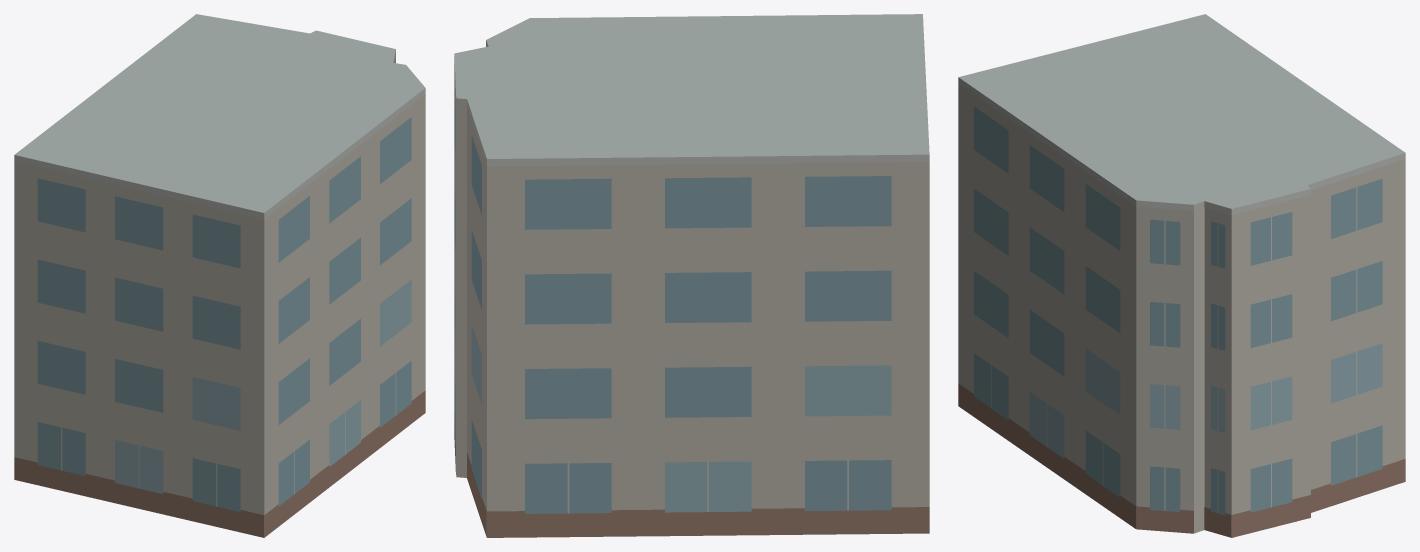
File: survey-upis-32627335.glb
3 renders of one model, left to right at view 1: azimuth 30°, elevation 25°; view 2: azimuth 150°, elevation 25°; view 3: azimuth 270°, elevation 25°, orthographic. The views are drawn at different scales.
Visible parts, largest first — view 1: survey-upis-32627335.tmp; view 2: survey-upis-32627335.tmp; view 3: survey-upis-32627335.tmp.
Part boxes in pixels (x1,y1,x2,y2): survey-upis-32627335.tmp: (14,14,425,537); survey-upis-32627335.tmp: (454,14,929,537); survey-upis-32627335.tmp: (958,14,1405,537).
Bounding box in the file's own units: 16.28 × 12.8 × 15.78.
